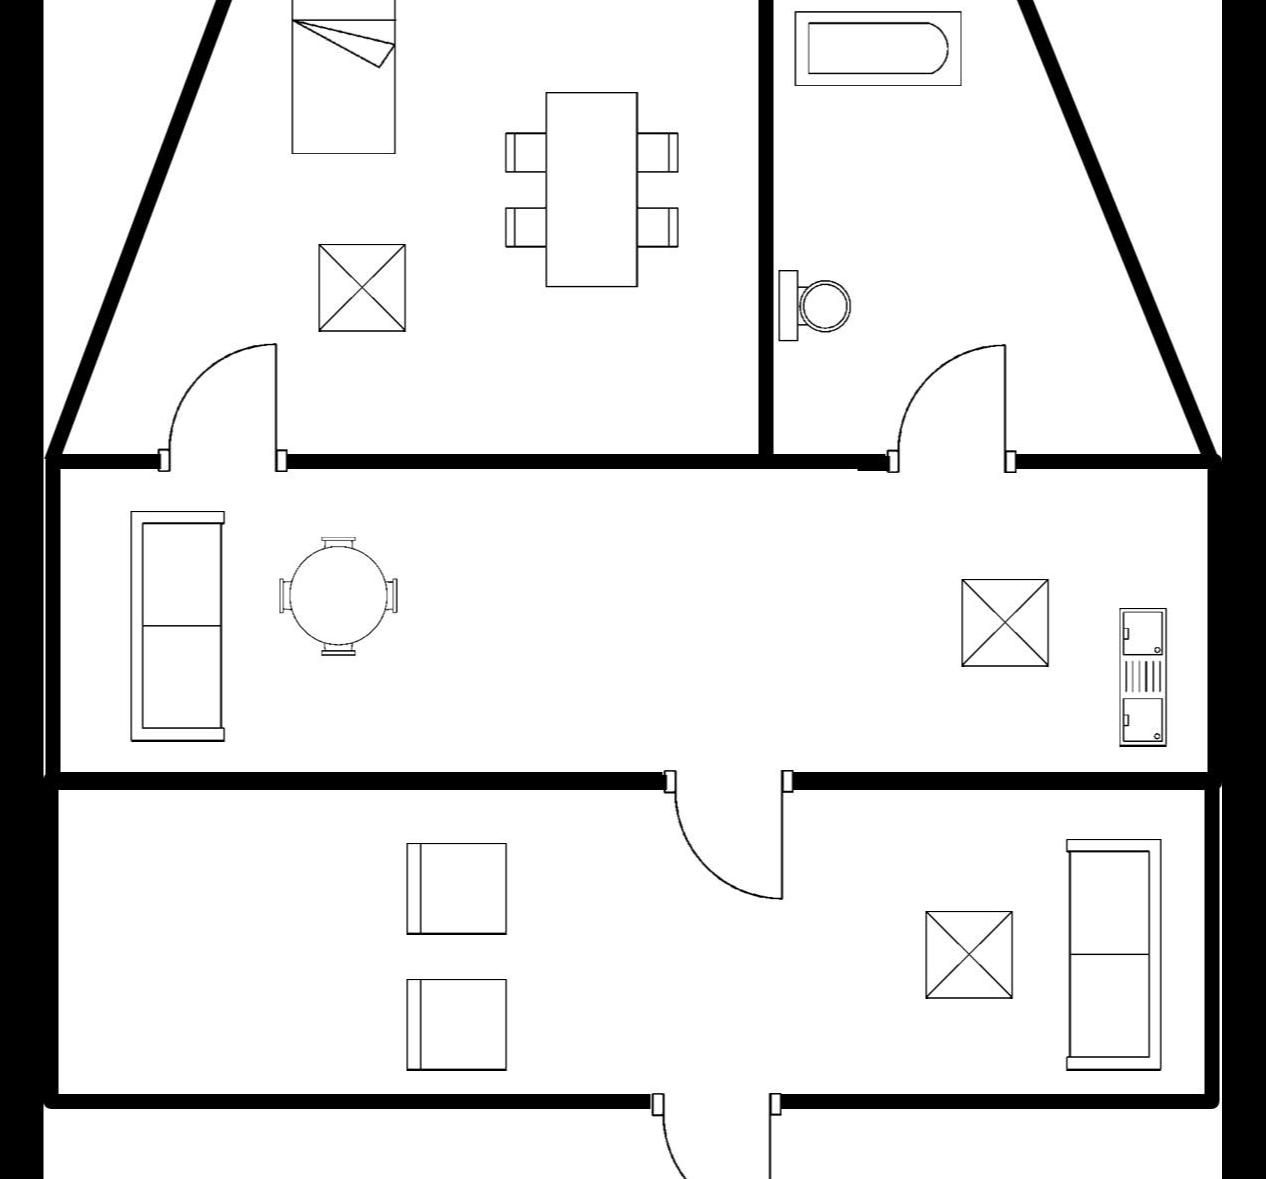sink: (1112, 601, 1178, 759)
